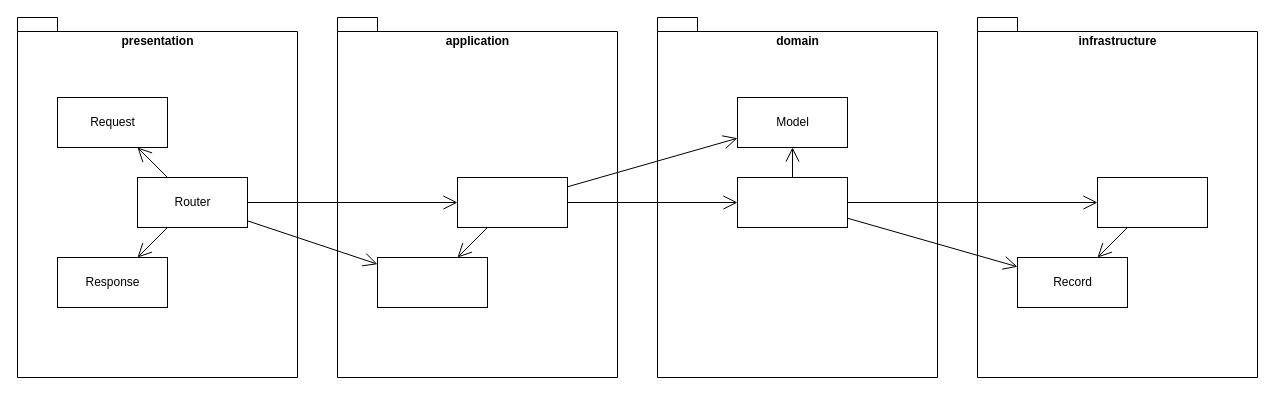
Image size: 1275x395. Some labels were removed from this diagram. The shapes that lost their labels are listed below. From the top down, each one's box as (x1, y1, x2, y2) in pixels, then its label:
(456, 176, 568, 228): Service
(736, 176, 848, 228): Repository
(1096, 176, 1208, 228): Gateway
(376, 256, 488, 308): Output
